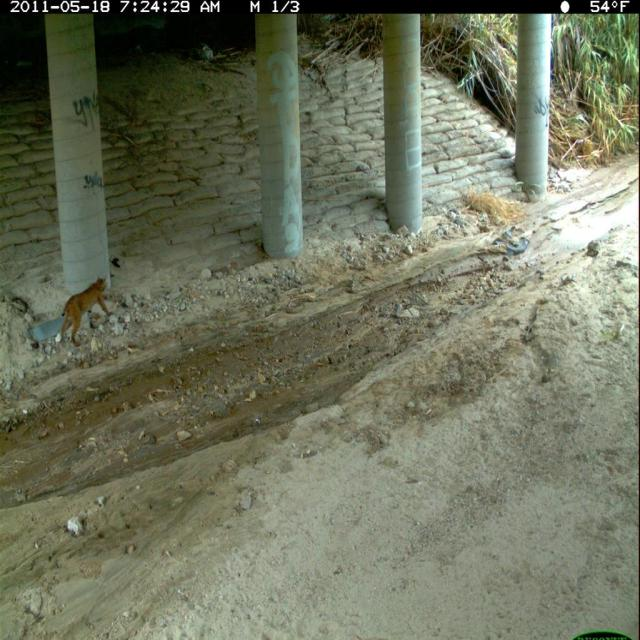bobcat: (59, 270, 114, 349)
